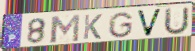8: (26, 17, 48, 45)
G: (107, 11, 135, 39)
K: (82, 13, 104, 41)
M: (49, 13, 81, 44)
U: (162, 6, 191, 37)
V: (135, 8, 164, 38)
